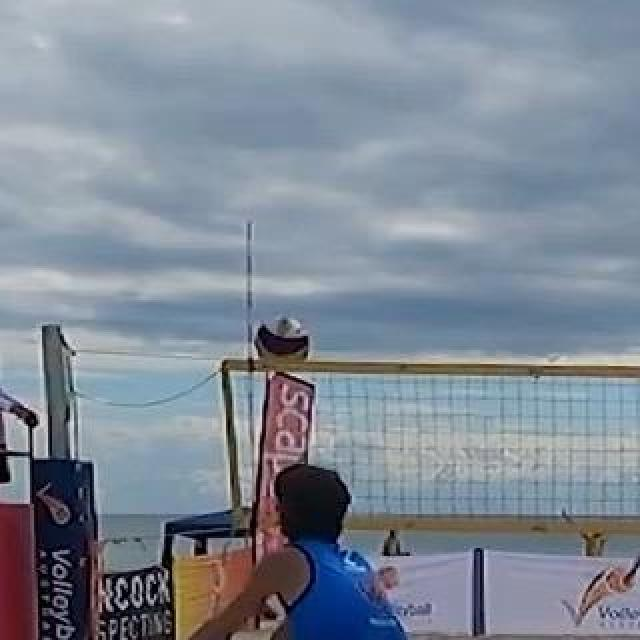volleyball: (256, 316, 310, 368)
